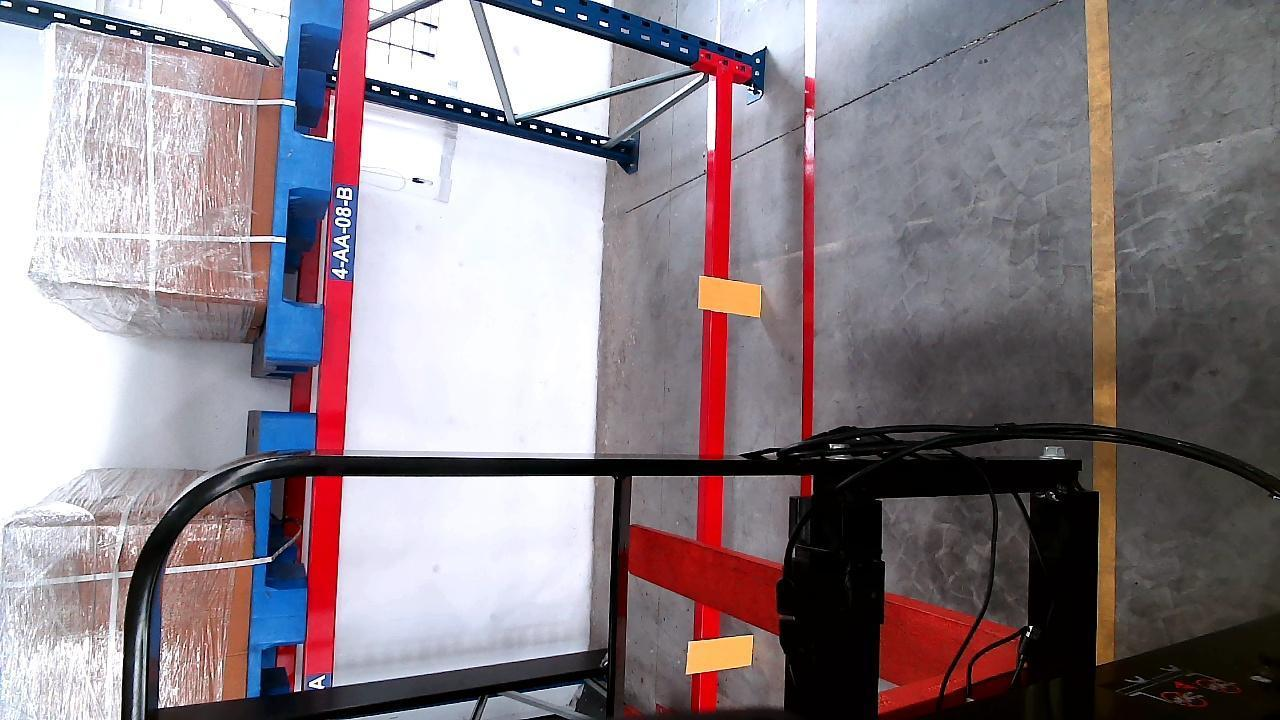h_rack: (308, 0, 370, 687), (693, 79, 737, 719)
orange_strip: (689, 632, 757, 673), (700, 277, 762, 314)
red_line: (797, 2, 823, 443)
small_pallet: (264, 0, 340, 361), (250, 414, 317, 689)
yellow_line: (1087, 0, 1121, 668)
